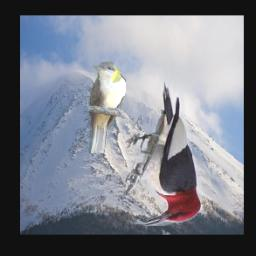Cuckoo: (87, 63, 127, 154)
Woodpecker: (127, 82, 203, 227)
